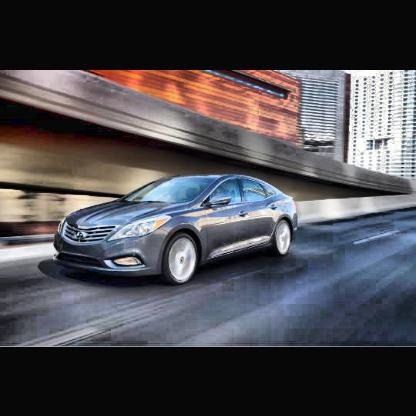Hyundai Sonata Sedan 2012: (54, 174, 301, 287)
